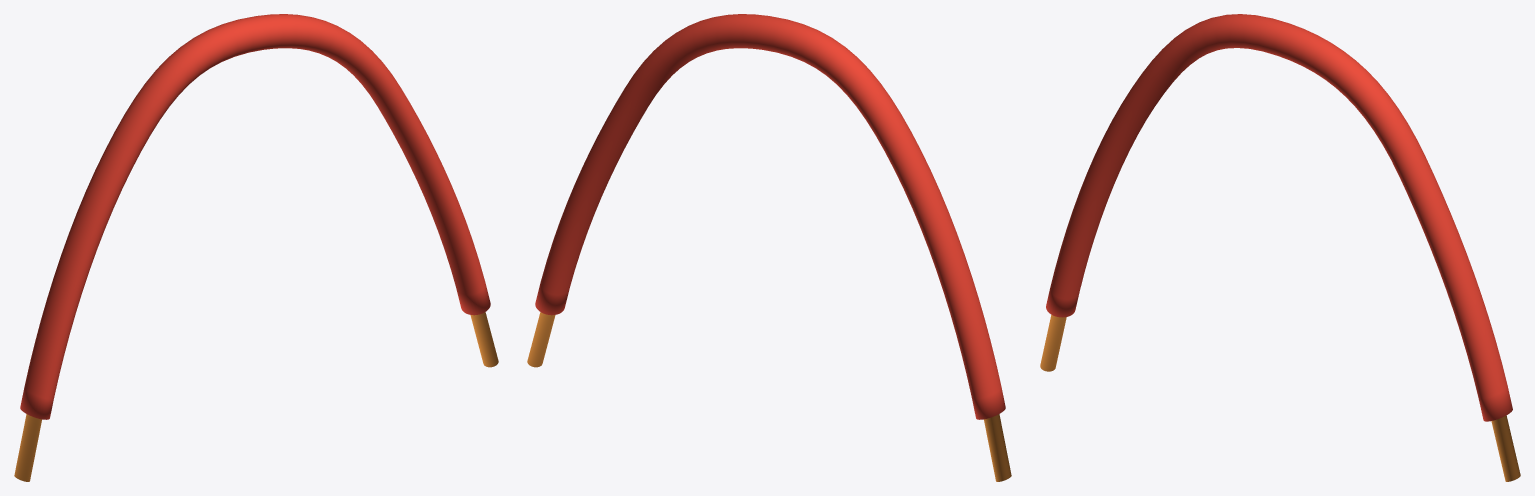
File: Prefab_CableExtraRojo.fbx
The picture shows the model from 3 angles, left to right: view 1: azimuth 30°, elevation 25°; view 2: azimuth 150°, elevation 25°; view 3: azimuth 330°, elevation 25°; orthographic projection.
Parts seen in each view (by area): view 1: Curva Bézier; view 2: Curva Bézier; view 3: Curva Bézier.
Part boxes in pixels (x1,y1,x2,y2): Curva Bézier: [14, 14, 498, 481]; Curva Bézier: [527, 14, 1011, 481]; Curva Bézier: [1040, 14, 1520, 481].
Bounding box in the file's own units: 149 × 120 × 10.
